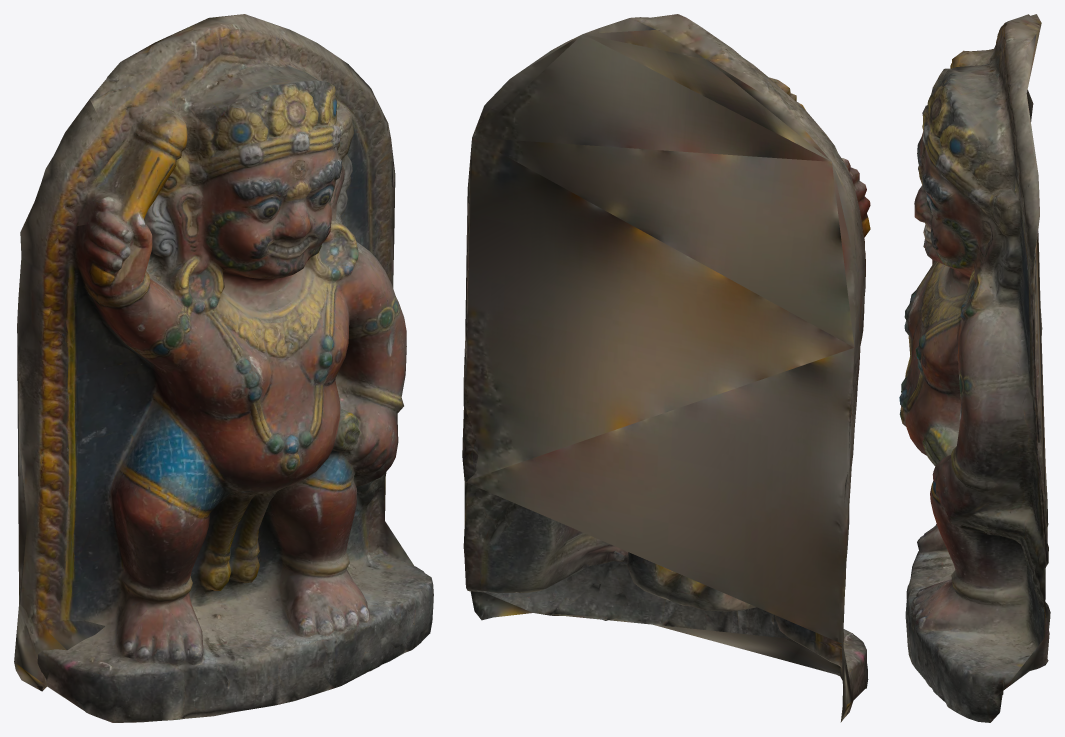
The model's file is kala-bhairava.glb.
3 renders of one model, left to right at view 1: azimuth 30°, elevation 25°; view 2: azimuth 150°, elevation 25°; view 3: azimuth 270°, elevation 25°, orthographic. The views are drawn at different scales.
Visible parts, largest first — view 1: Object_2; view 2: Object_2; view 3: Object_2.
Boxes of the visible parts, x1,y1,x2,y2 form: Object_2: [14, 14, 433, 722]; Object_2: [462, 14, 870, 722]; Object_2: [899, 14, 1050, 722].
Size of the model in its own units: 28.29 by 44.6 by 10.06.
Materials: 1 (1 with a texture image).
